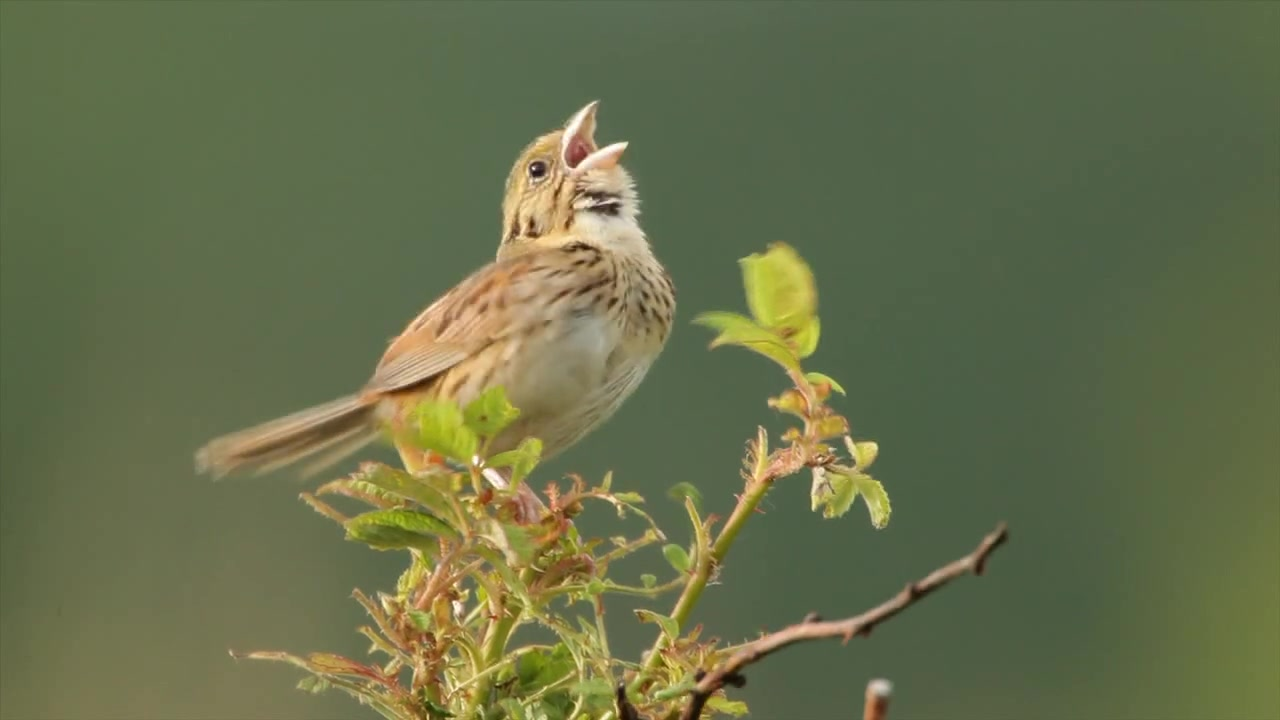bird: (195, 100, 679, 524)
